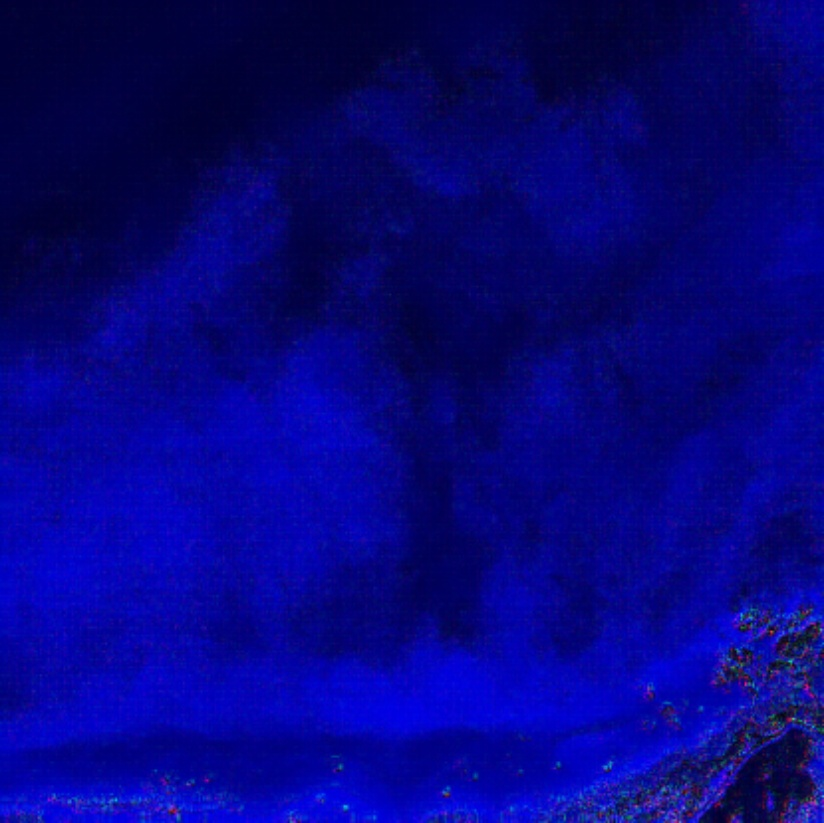rip_current: (334, 188, 537, 693)
